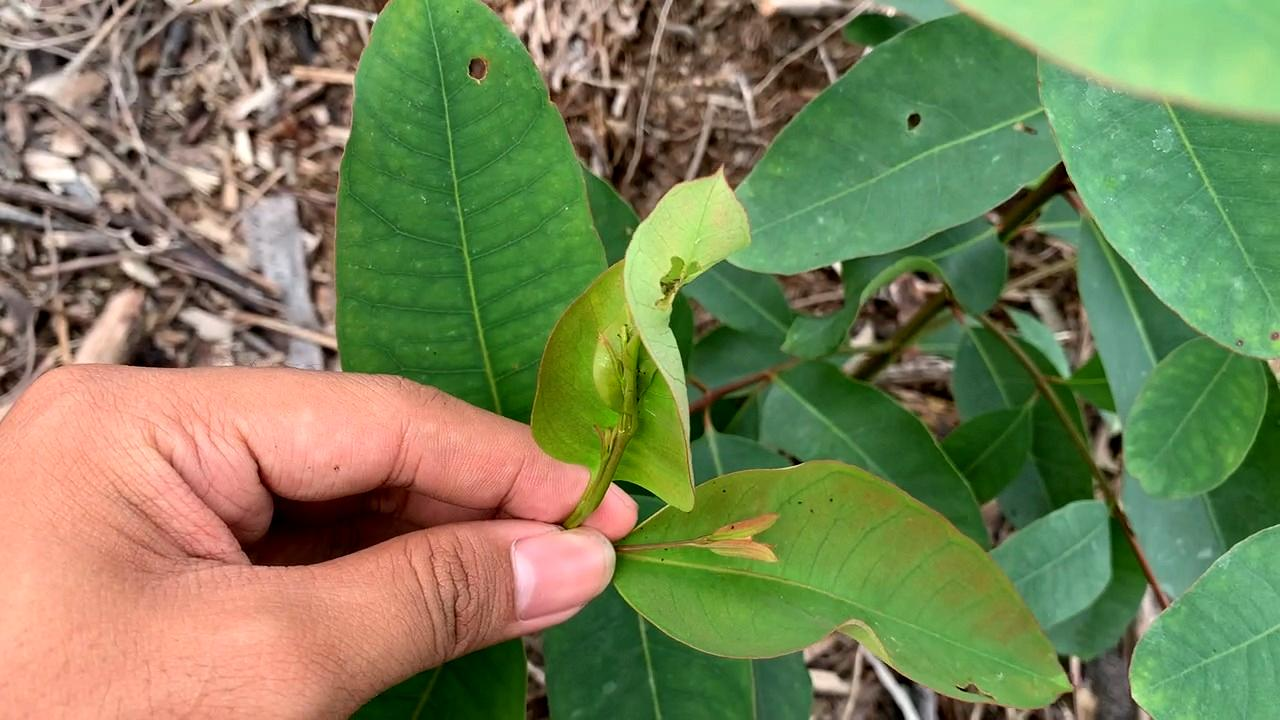Leaf Roller - Leaf: (530, 176, 750, 516)
